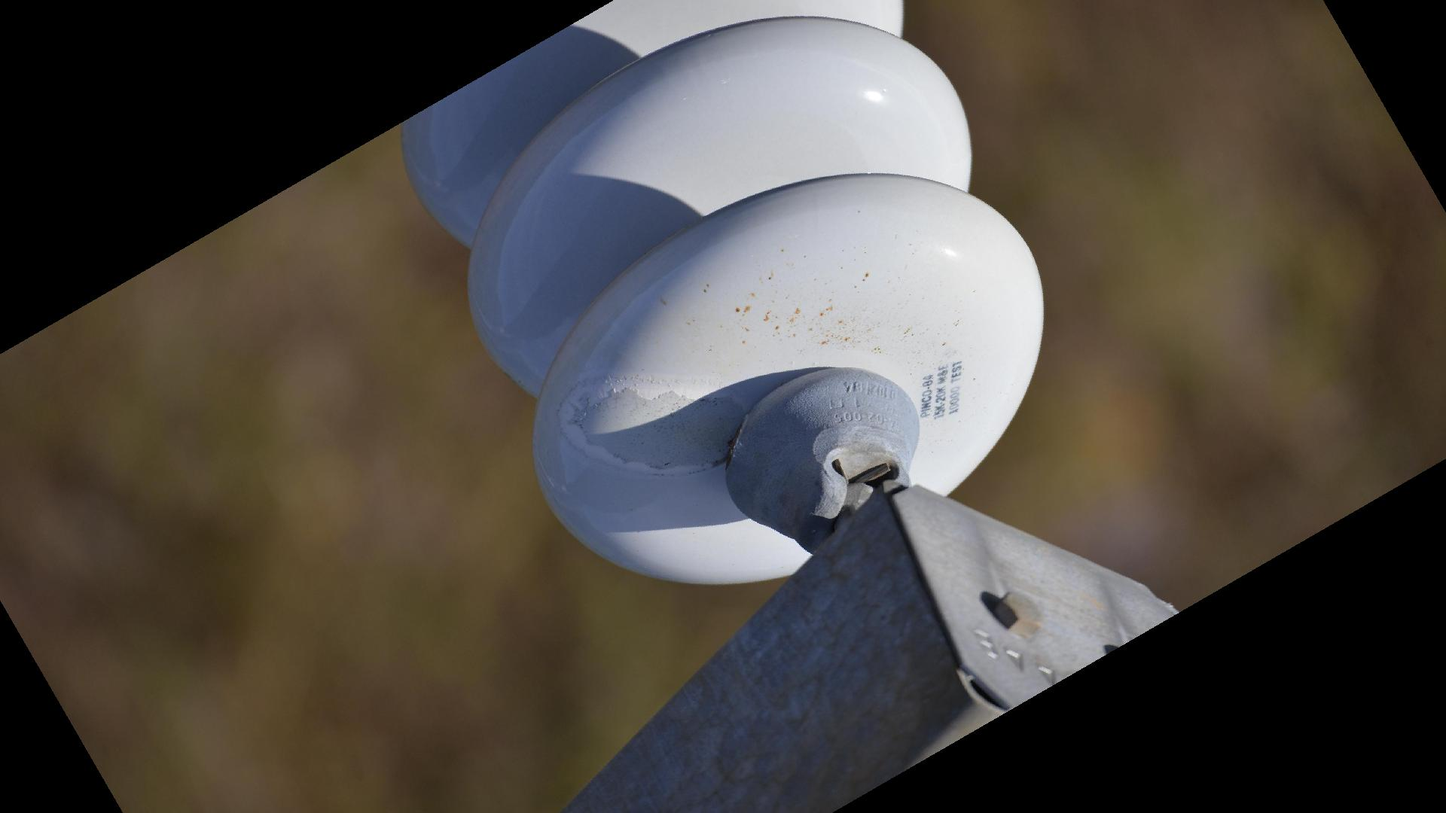insulator: (392, 1, 1060, 595)
insulator_flashover: (564, 378, 743, 477)
